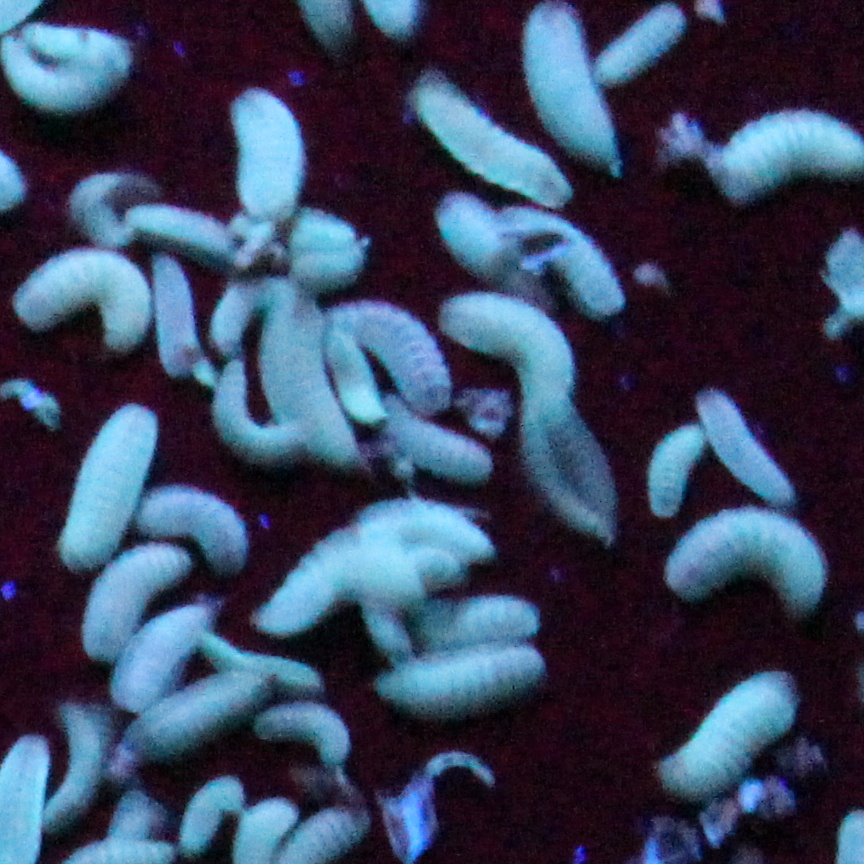larve: (396, 72, 589, 219), (647, 652, 804, 813), (45, 388, 168, 578), (652, 501, 842, 606), (434, 281, 581, 414), (370, 627, 553, 727), (521, 8, 627, 170), (324, 291, 457, 414), (78, 531, 194, 668), (686, 383, 806, 514), (221, 80, 314, 229), (137, 475, 257, 572), (376, 396, 503, 480), (120, 191, 260, 267), (635, 419, 714, 514), (168, 770, 245, 859)
